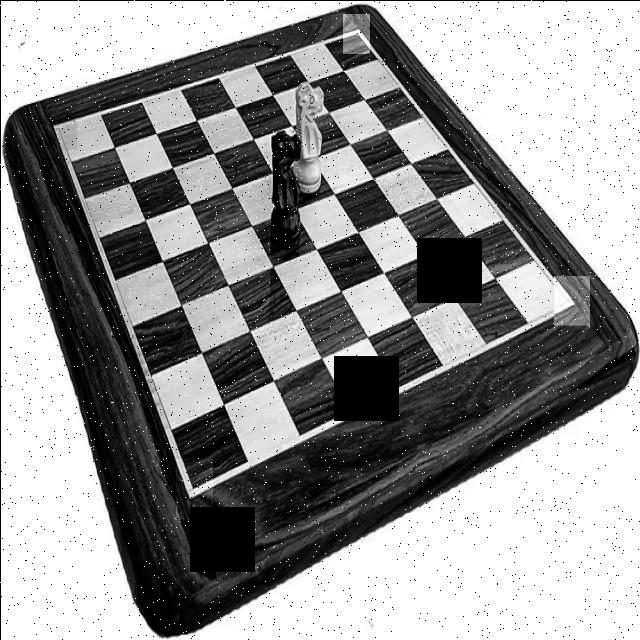chess-table-corners: (175, 458, 212, 519), (553, 276, 589, 326), (43, 105, 76, 149), (342, 13, 369, 53)
